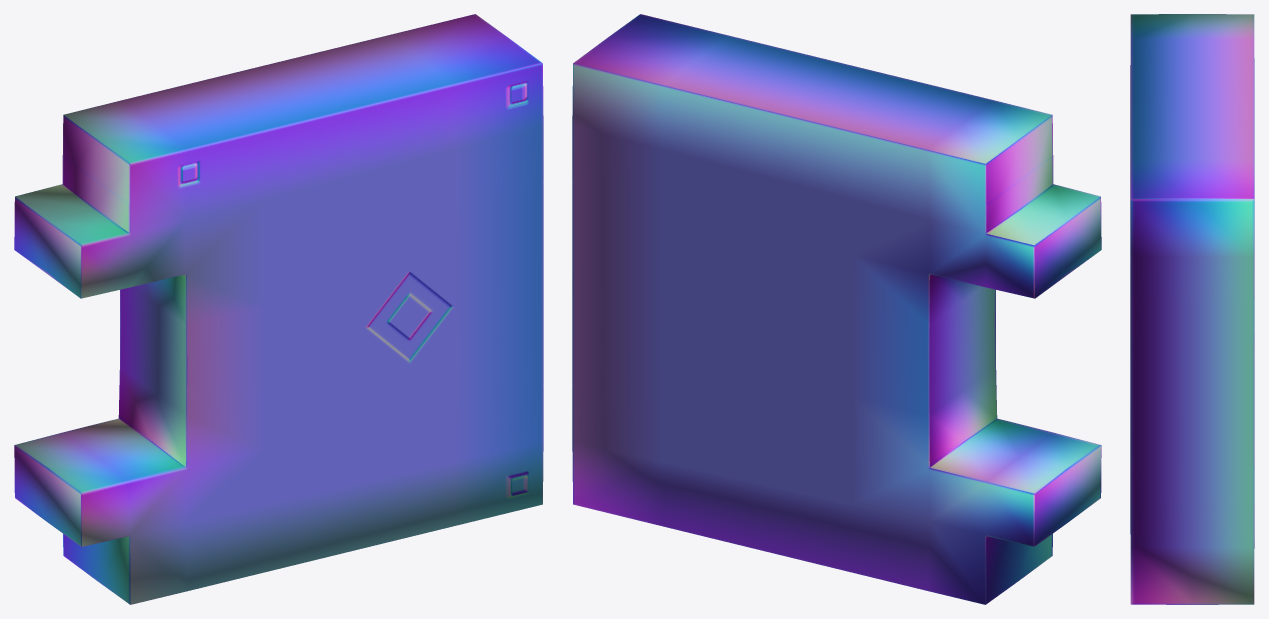
The model's file is DoorB.fbx.
3 renders of one model, left to right at view 1: azimuth 30°, elevation 25°; view 2: azimuth 150°, elevation 25°; view 3: azimuth 270°, elevation 25°, orthographic. The views are drawn at different scales.
Parts seen in each view (by area): view 1: RetopoGroup2; view 2: RetopoGroup2; view 3: RetopoGroup2.
Part boxes in pixels (x1,y1,x2,y2): RetopoGroup2: (14,14,543,604); RetopoGroup2: (572,14,1101,604); RetopoGroup2: (1130,14,1254,604).
Bounding box in the file's own units: 319 × 291 × 80.55.
